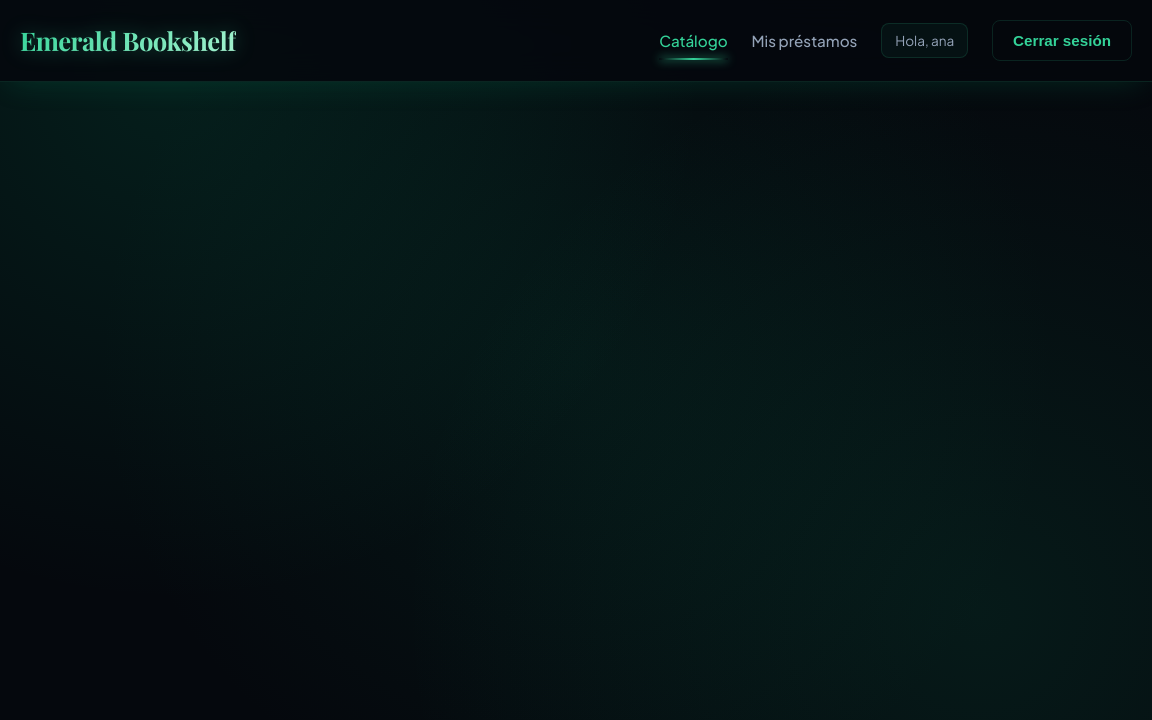
it: Navbar › cerrar sesión limpia el token y vuelve al estado de invitado
Click the button "Cerrar sesión": (1062,41) [992, 20, 1132, 61]
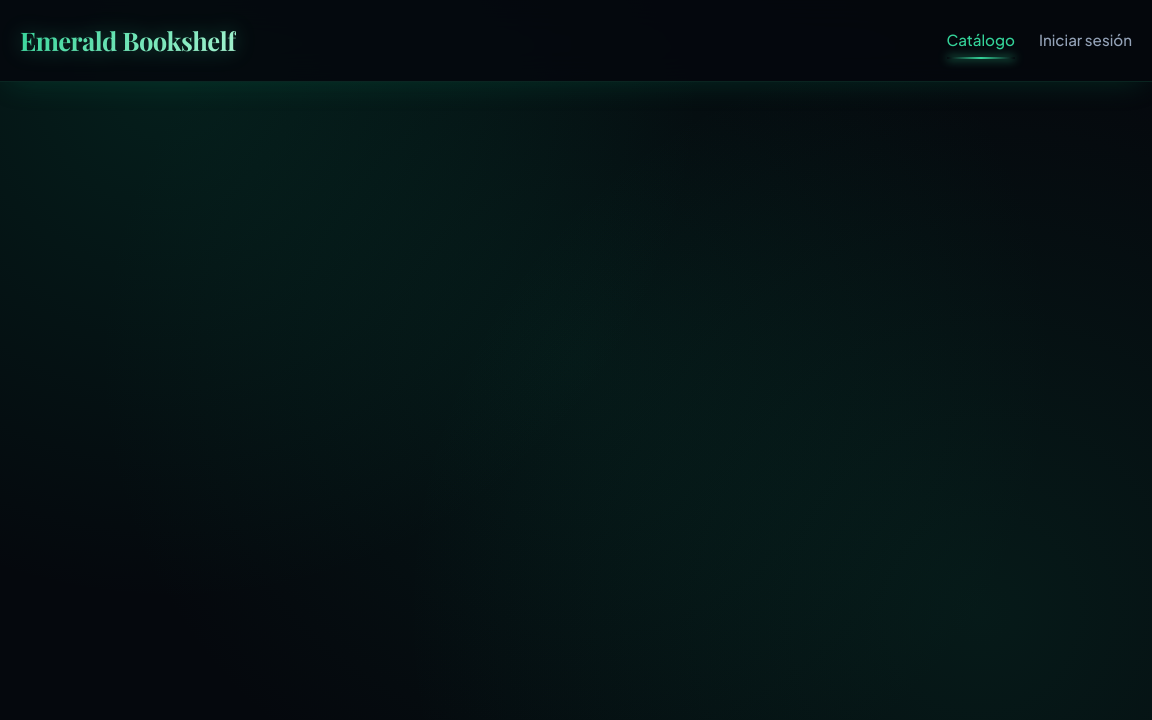
expect the link "Iniciar sesión" is shown: met, box [1039, 30, 1132, 49]
